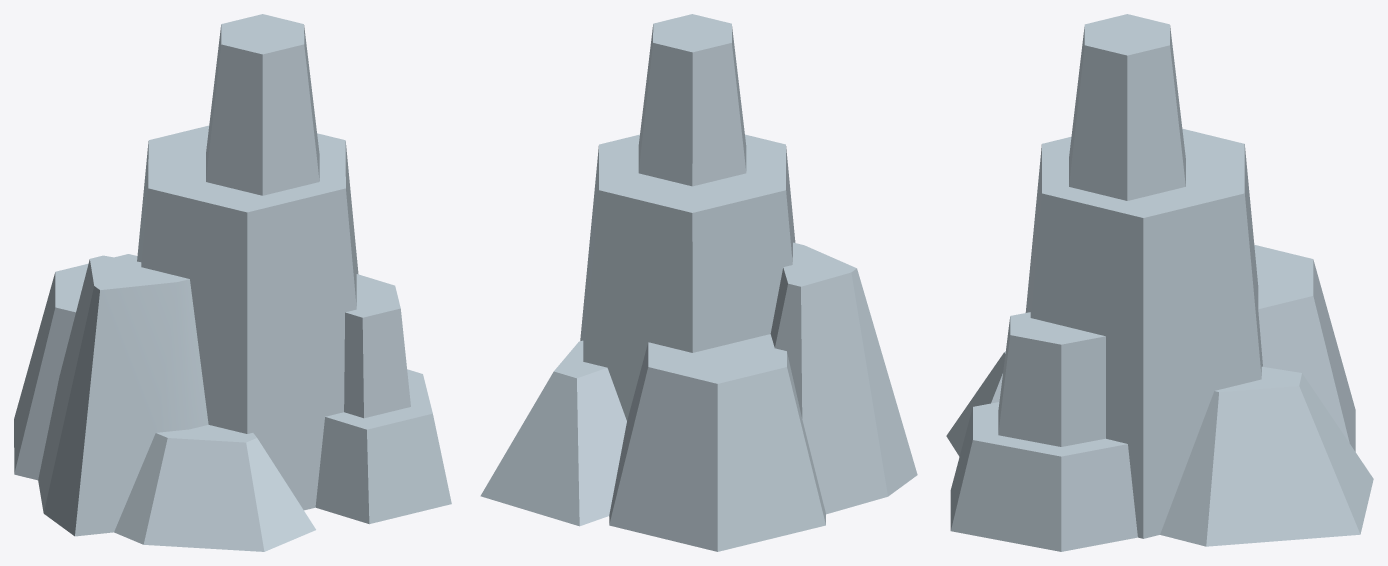
File: formation-stone.glb
3 renders of one model, left to right at view 1: azimuth 30°, elevation 25°; view 2: azimuth 150°, elevation 25°; view 3: azimuth 270°, elevation 25°, orthographic. The views are drawn at different scales.
Visible parts, largest first — view 1: formation_stone; view 2: formation_stone; view 3: formation_stone.
Part boxes in pixels (x1,y1,x2,y2): formation_stone: (14, 14, 451, 551); formation_stone: (480, 14, 917, 551); formation_stone: (946, 14, 1373, 551).
Bounding box in the file's own units: 1.06 × 1.22 × 1.07.
